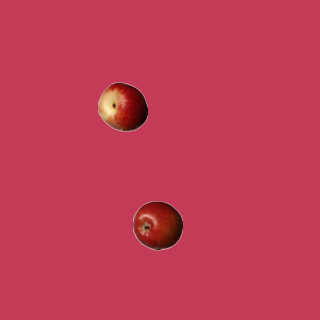Apple Braeburn: (132, 200, 182, 250)
Nectarine: (97, 81, 147, 131)
